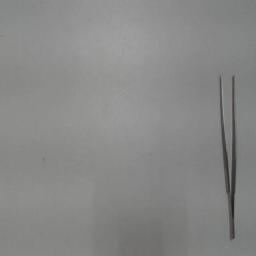Gillies Toothed Dissector: (216, 64, 238, 240)
